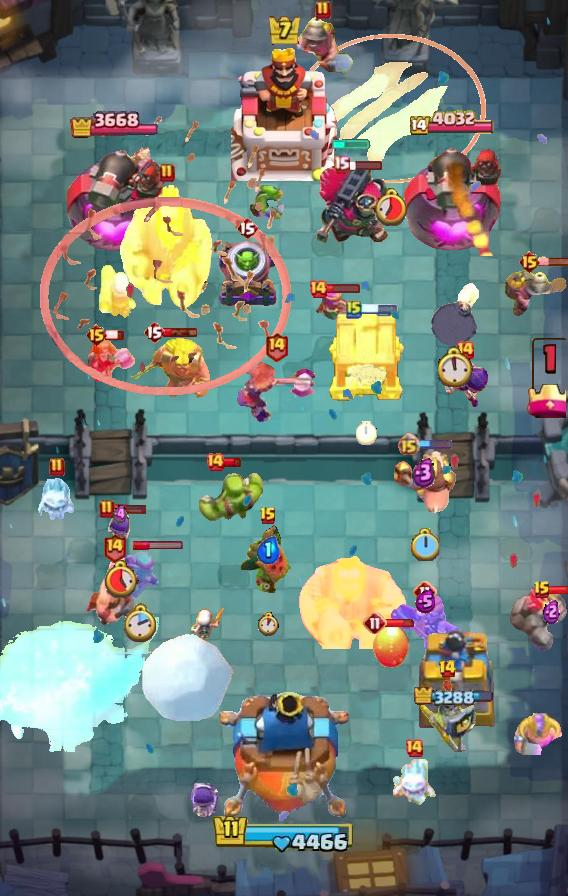archer: (314, 287, 354, 325)
bar: (133, 540, 184, 551), (417, 438, 453, 450), (347, 159, 383, 171), (113, 503, 146, 515), (325, 283, 361, 294), (163, 327, 198, 338), (360, 304, 398, 314), (538, 256, 568, 267), (385, 618, 417, 628), (105, 329, 125, 341), (223, 457, 242, 468), (548, 585, 568, 595)
bar-level: (102, 532, 127, 563), (264, 331, 289, 362), (363, 611, 387, 635), (413, 580, 437, 604), (85, 323, 108, 347), (518, 250, 541, 274), (397, 433, 420, 456), (143, 320, 165, 344), (236, 216, 258, 240), (404, 738, 424, 758), (205, 452, 225, 472), (455, 340, 475, 360), (308, 279, 328, 299), (438, 659, 457, 679), (533, 580, 551, 600), (259, 506, 277, 526), (333, 155, 350, 174), (99, 499, 115, 519), (49, 457, 65, 477), (346, 299, 362, 319), (159, 163, 175, 183), (315, 0, 331, 20)
bomb: (430, 283, 482, 345)
bomber-evolution: (441, 356, 489, 410)
cannoneer-tower: (63, 136, 165, 256), (403, 138, 504, 256)
clock: (438, 346, 474, 387), (102, 559, 139, 598), (373, 187, 410, 226), (124, 603, 158, 644), (410, 528, 439, 561), (257, 612, 280, 636), (356, 421, 377, 445)
dart-goblin: (239, 523, 297, 599)
elite-barbarian: (514, 712, 563, 755)
elixir: (412, 457, 436, 488), (256, 536, 280, 564), (415, 589, 436, 614), (543, 598, 560, 624), (113, 504, 127, 525)
firecracker: (97, 262, 139, 320)
goblin: (248, 181, 288, 219)
goblin-brawler: (199, 467, 263, 523)
golemite: (504, 587, 568, 655)
guard: (418, 680, 476, 752)
ice-spirit: (390, 758, 438, 806), (36, 477, 78, 521)
king-tower: (219, 692, 349, 826), (231, 45, 337, 181)
king-tower-bar: (212, 813, 356, 855)
lumberjack: (85, 555, 143, 627)
miner: (291, 11, 355, 75), (504, 267, 568, 321)
mortar-evolution: (215, 239, 279, 309)
phoenix-egg: (371, 625, 411, 669)
queen-tower: (403, 621, 503, 731)
skeleton: (189, 605, 227, 645)
skeleton-evolution: (190, 783, 221, 823), (105, 511, 135, 551)
spear-goblin: (119, 549, 163, 599)
tower-bar: (70, 108, 158, 142), (410, 110, 497, 138), (414, 687, 493, 708)
valkyrie: (89, 338, 137, 384)
valkyrie-evolution: (235, 360, 318, 424), (389, 595, 461, 653)
